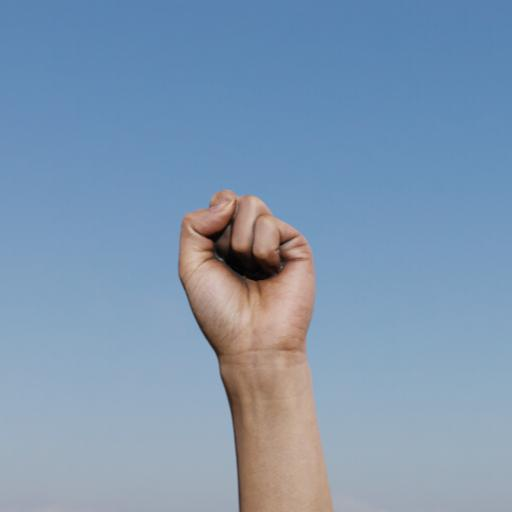S: (165, 168, 324, 512)
